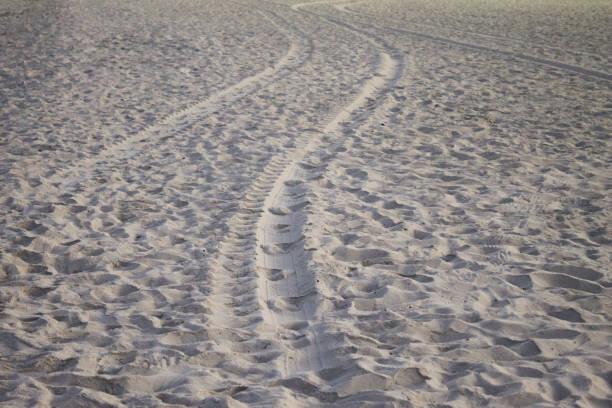vehicle_track: (209, 14, 403, 401), (256, 24, 403, 387), (46, 9, 311, 190), (357, 22, 611, 80), (409, 21, 600, 57)
